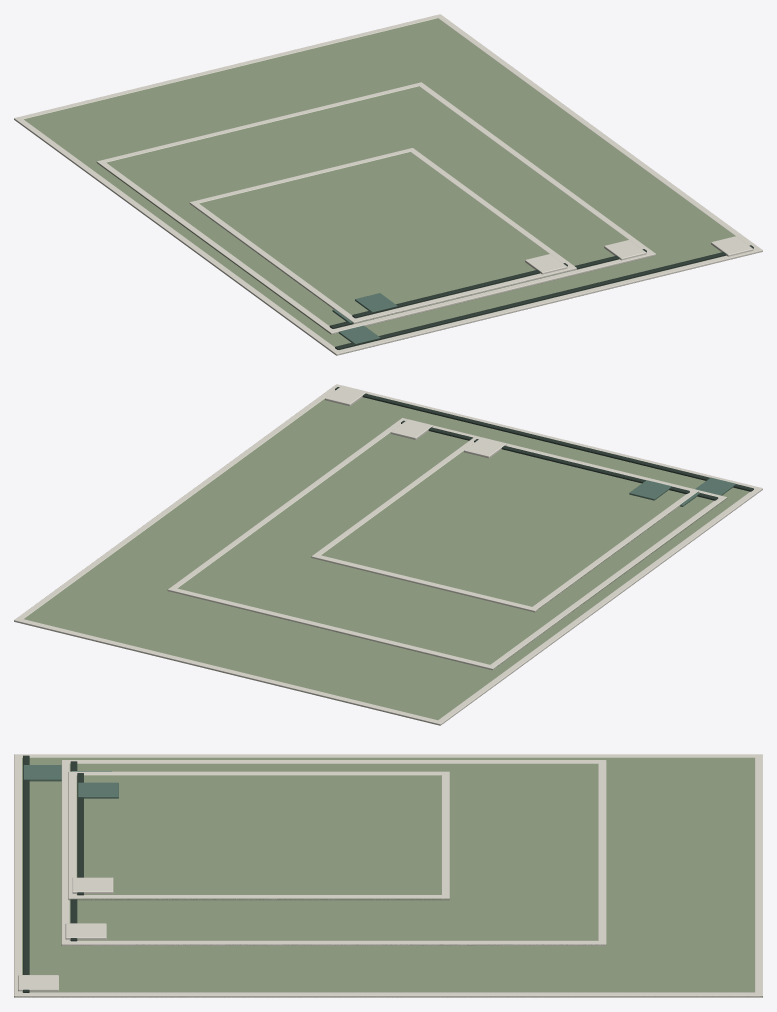
File: garment-bags.glb
The picture shows the model from 3 angles, top to bottom: view 1: azimuth 30°, elevation 25°; view 2: azimuth 150°, elevation 25°; view 3: azimuth 270°, elevation 25°; orthographic projection. The views are drawn at different scales.
Visible parts, largest first — view 1: Mesh bag 0, Mesh bag 1, Mesh bag 2, Bound long seam, Bound short seam, Bound long seam.001, Bound long seam.002, Covered zipper, Bound short seam.001, Bound short seam.002, Bound long seam.003, Bound short seam.003 (+5 smaller); view 2: Mesh bag 0, Mesh bag 1, Mesh bag 2, Bound long seam, Bound short seam.001, Bound long seam.001, Bound long seam.002, Bound short seam.003, Covered zipper, Bound long seam.003, Bound long seam.004, Bound short seam.005 (+4 smaller); view 3: Mesh bag 0, Mesh bag 1, Mesh bag 2, Bound long seam.001, Bound long seam.003, Bound long seam, Bound long seam.005, Bound long seam.002, Bound short seam.001, Bound long seam.004, Bound short seam, Bound short seam.003 (+10 smaller).
Boxes of the visible parts, x1,y1,x2,y2 form: Mesh bag 0: [24, 18, 762, 355]; Mesh bag 1: [97, 86, 628, 334]; Mesh bag 2: [196, 152, 576, 323]; Bound long seam: [14, 117, 341, 355]; Bound short seam: [334, 248, 762, 355]; Bound long seam.001: [435, 14, 762, 252]; Bound long seam.002: [97, 160, 336, 334]; Covered zipper: [335, 245, 753, 349]; Bound short seam.001: [15, 14, 441, 119]; Bound short seam.002: [328, 253, 655, 334]; Bound long seam.003: [416, 82, 655, 256]; Bound short seam.003: [96, 82, 422, 164]; Mesh bag 0: [14, 397, 749, 725]; Mesh bag 1: [167, 431, 727, 669]; Mesh bag 2: [311, 449, 698, 611]; Bound long seam: [435, 487, 762, 725]; Bound short seam.001: [14, 619, 442, 725]; Bound long seam.001: [14, 384, 341, 622]; Bound long seam.002: [487, 496, 726, 670]; Bound short seam.003: [168, 588, 495, 669]; Covered zipper: [335, 387, 753, 491]; Bound long seam.003: [168, 418, 407, 592]; Bound long seam.004: [529, 489, 697, 612]; Bound short seam.005: [311, 555, 537, 611]; Mesh bag 0: [14, 757, 762, 997]; Mesh bag 1: [61, 763, 606, 945]; Mesh bag 2: [68, 775, 449, 899]; Bound long seam.001: [14, 992, 762, 997]; Bound long seam.003: [61, 940, 606, 945]; Bound long seam: [14, 754, 762, 757]; Bound long seam.005: [68, 895, 449, 900]; Bound long seam.002: [61, 760, 606, 763]; Bound short seam.001: [755, 757, 762, 995]; Bound long seam.004: [68, 771, 449, 775]; Bound short seam: [14, 757, 21, 994]; Bound short seam.003: [598, 760, 606, 945].
Size of the model in its own units: 0.42 by 0.008 by 0.55.
